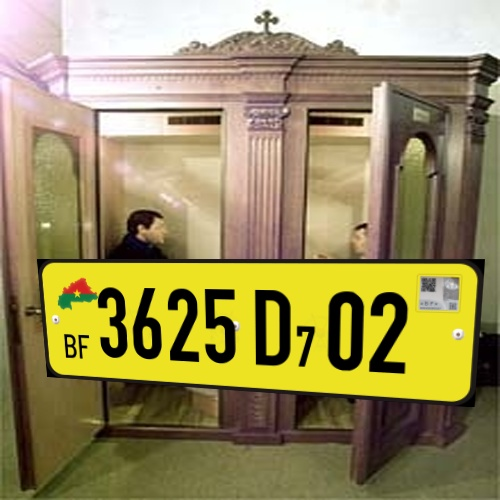plate: (26, 243, 491, 415)
